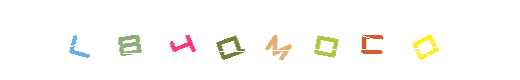0: (230, 0, 310, 80)
4: (181, 0, 261, 80)
8: (144, 0, 224, 80)
C: (330, 0, 410, 80)
L: (37, 0, 117, 80)
M: (220, 0, 300, 80)
O: (385, 0, 465, 80)
Q: (189, 0, 269, 80)
